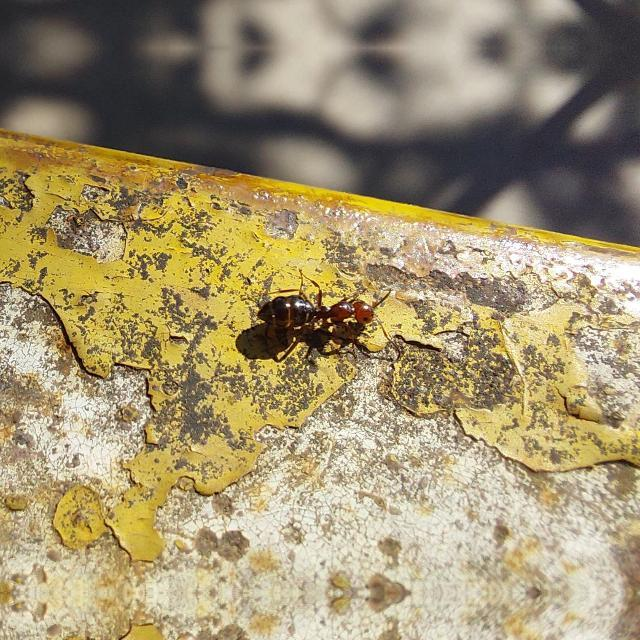Camponotus: (258, 277, 397, 345)
